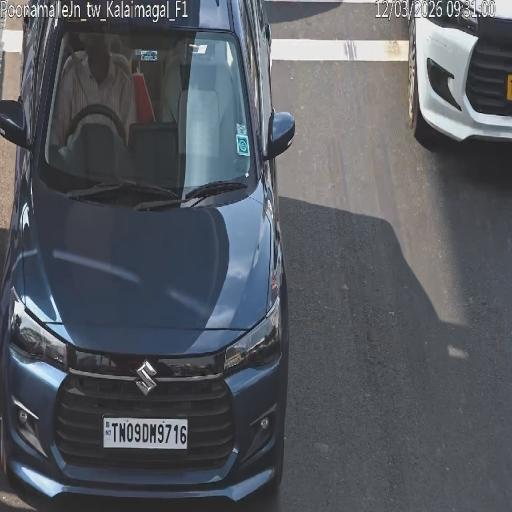person_with_seatbelt: (66, 40, 102, 132)
